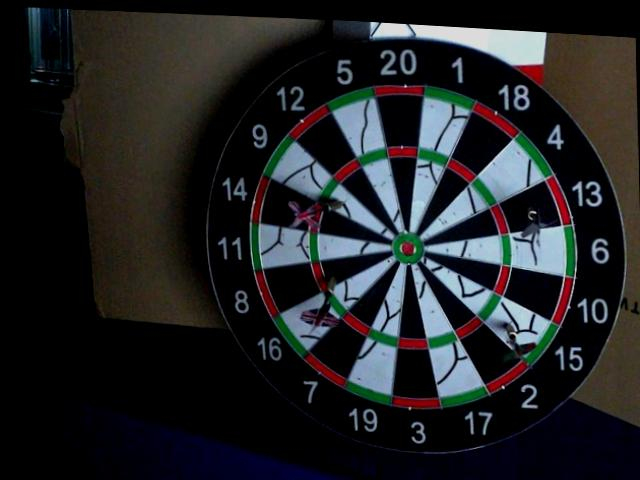single_13: (501, 181, 563, 228)
single_15: (487, 300, 551, 354)
single_8: (323, 253, 392, 284)
single_9: (331, 192, 394, 238)
